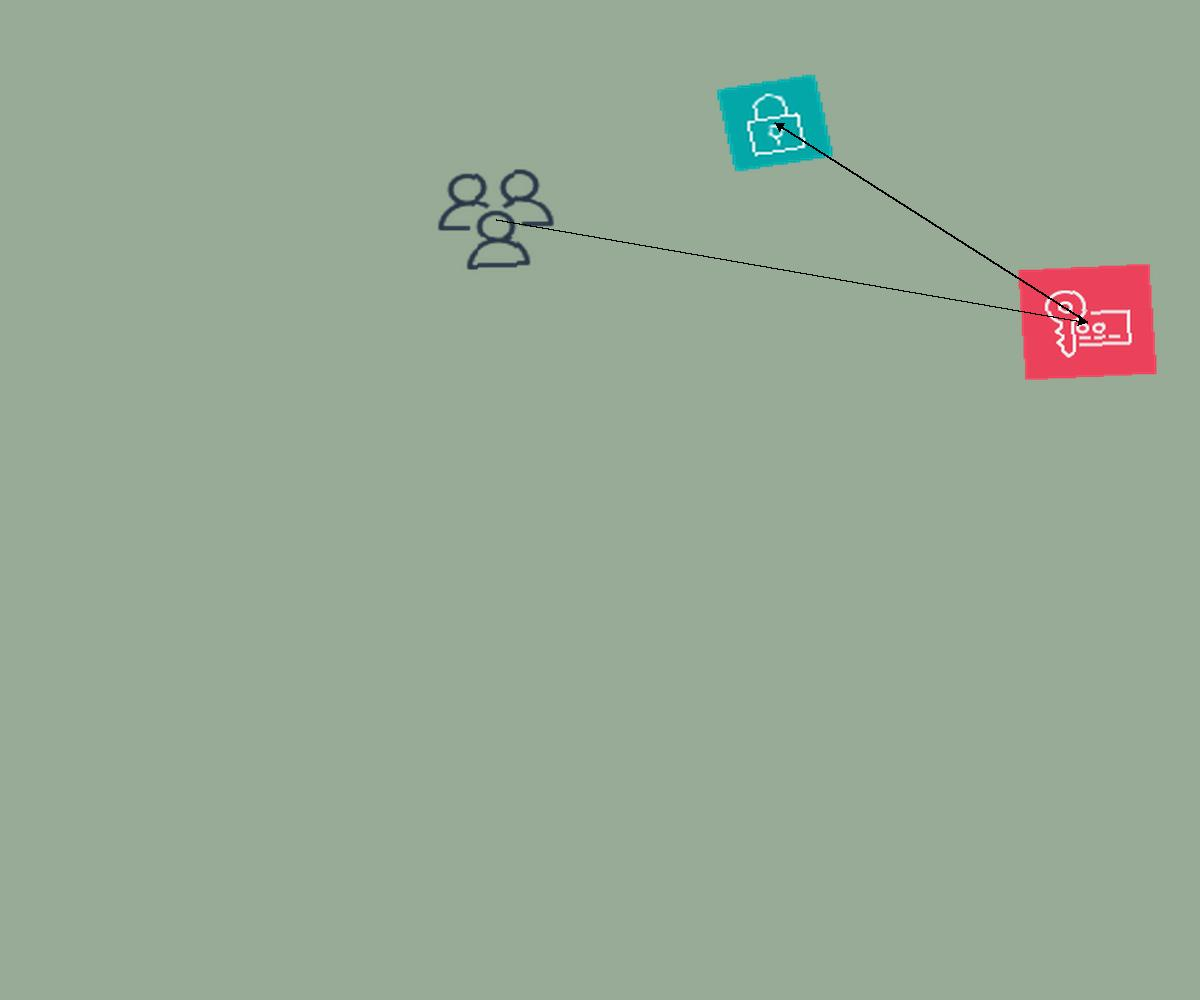AWS-Key-Management-Service: (1017, 263, 1158, 381)
AWS-Private-subnet: (715, 73, 835, 173)
AWS-Res_Users: (428, 163, 564, 276)
